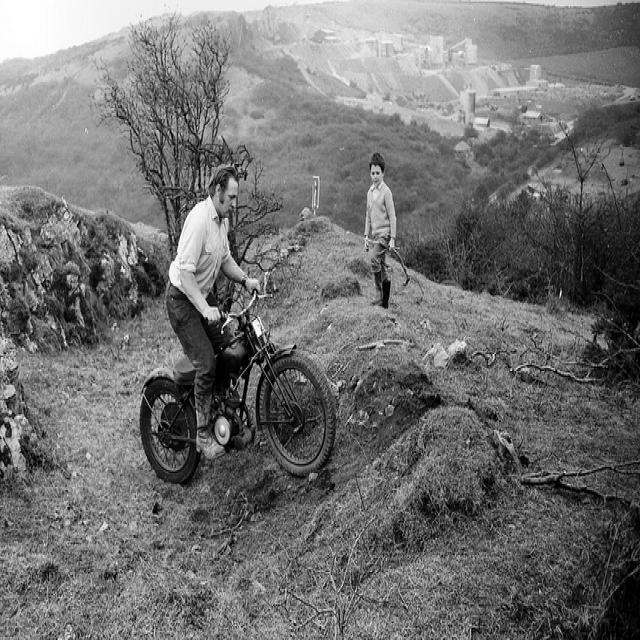motor: (138, 289, 334, 487)
